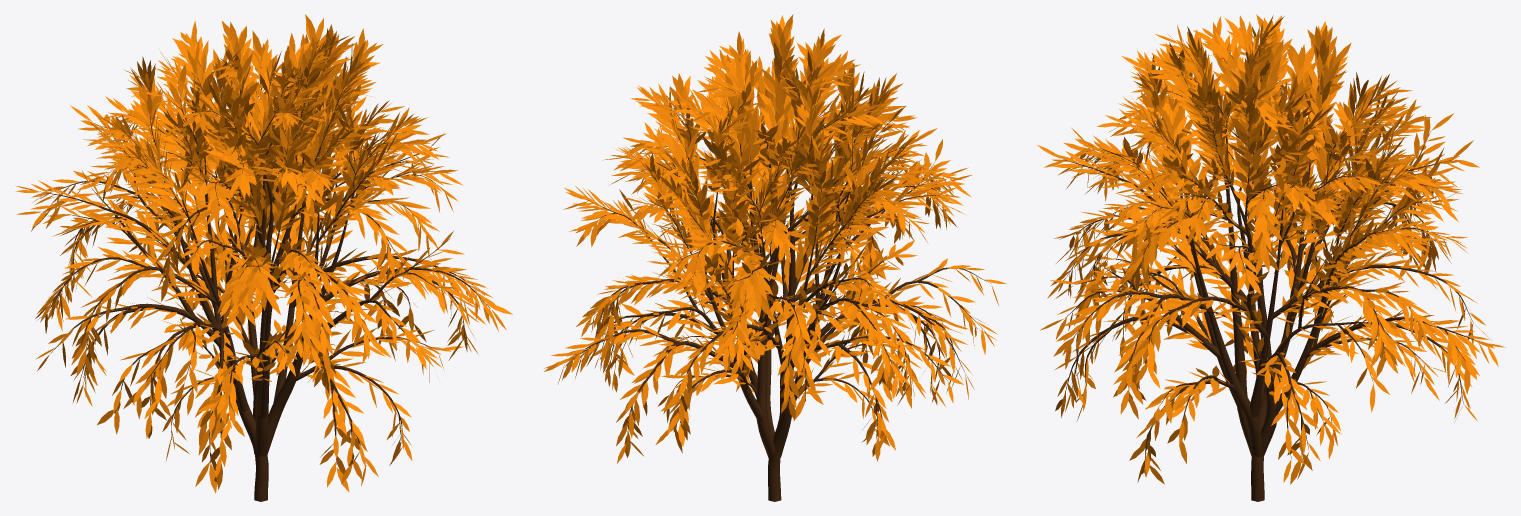
The model's file is OrangeTree.fbx.
3 views of the same model, side by side, from view 1: azimuth 30°, elevation 25°; view 2: azimuth 150°, elevation 25°; view 3: azimuth 270°, elevation 25° (orthographic). The views are drawn at different scales.
Visible parts, largest first — view 1: leaves, tree; view 2: leaves, tree; view 3: leaves, tree.
Part boxes in pixels (left/top/right/bottom): leaves: left=15, top=14, right=512, bottom=493; tree: left=40, top=52, right=490, bottom=501; leaves: left=544, top=14, right=1006, bottom=463; tree: left=565, top=55, right=990, bottom=501; leaves: left=1037, top=14, right=1505, bottom=484; tree: left=1063, top=39, right=1474, bottom=501.
Size of the model in its own units: 578 by 682 by 605.
